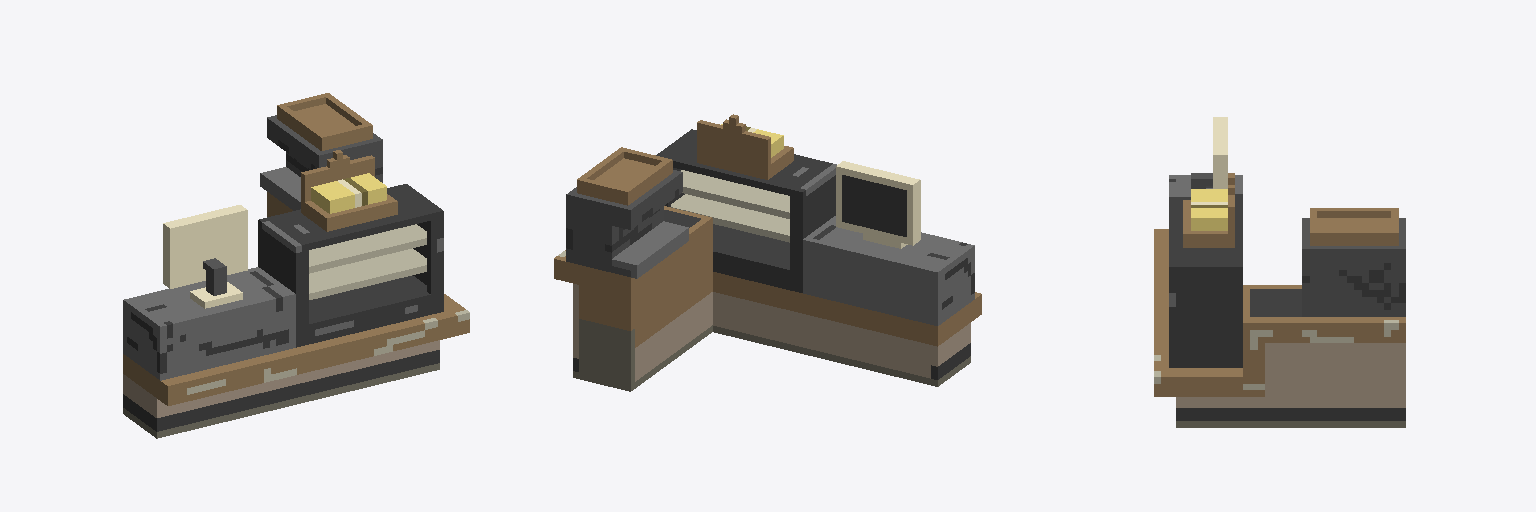
The picture shows the model from 3 angles: view 1: azimuth 30°, elevation 25°; view 2: azimuth 150°, elevation 25°; view 3: azimuth 270°, elevation 25°; orthographic projection.
Parts seen in each view (by area): view 1: object 1; view 2: object 1; view 3: object 1.
Boxes of the visible parts, x1=… form: object 1: x1=123, y1=93, x2=469, y2=438; object 1: x1=554, y1=114, x2=981, y2=391; object 1: x1=1154, y1=117, x2=1405, y2=427.
Bounding box in the file's own units: 4.7 × 3.2 × 3.4.
1 materials, 1 textured.